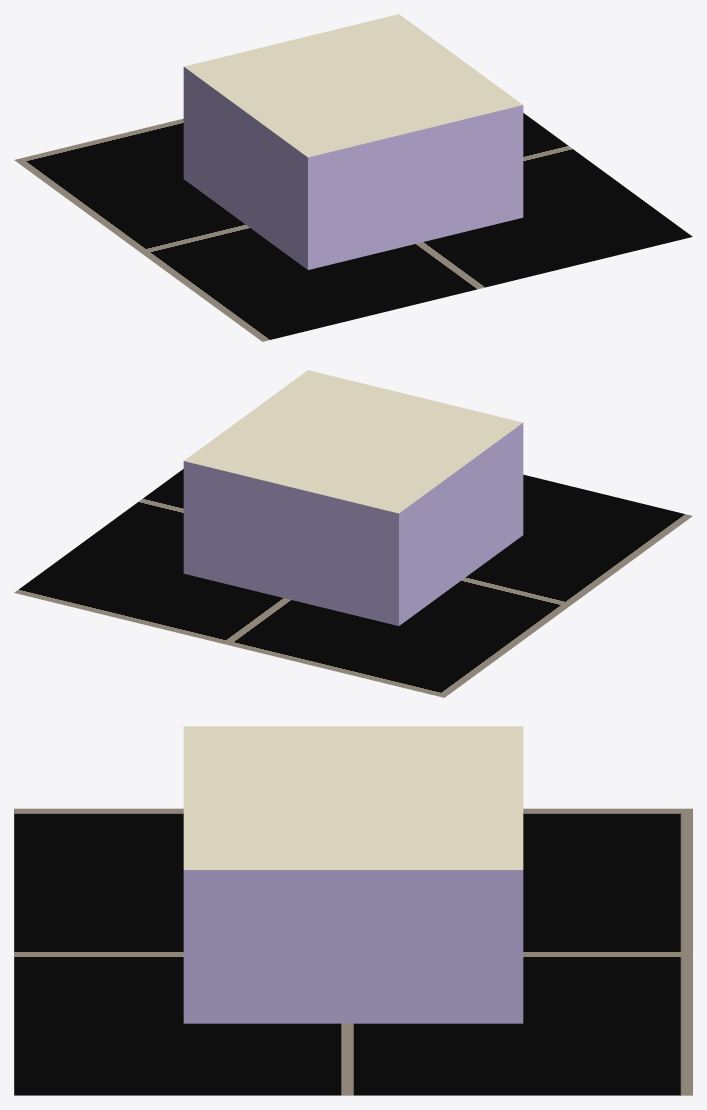
Rendered from Terrain_Sand_Flat_1x1.glb.
3 views of the same model, one above another, from view 1: azimuth 30°, elevation 25°; view 2: azimuth 150°, elevation 25°; view 3: azimuth 270°, elevation 25° (orthographic). The views are drawn at different scales.
Visible parts, largest first — view 1: Terrain_Sand_Flat_1x1, Floor; view 2: Terrain_Sand_Flat_1x1, Floor; view 3: Floor, Terrain_Sand_Flat_1x1.
Boxes of the visible parts, x1,y1,x2,y2 form: Terrain_Sand_Flat_1x1: (183,14,523,269); Floor: (14,113,692,341); Terrain_Sand_Flat_1x1: (183,370,523,625); Floor: (14,469,692,697); Floor: (14,808,692,1095); Terrain_Sand_Flat_1x1: (183,726,523,1023).
Bounding box in the file's own units: 200 × 50 × 200.
Materials: 4 (1 with a texture image).
